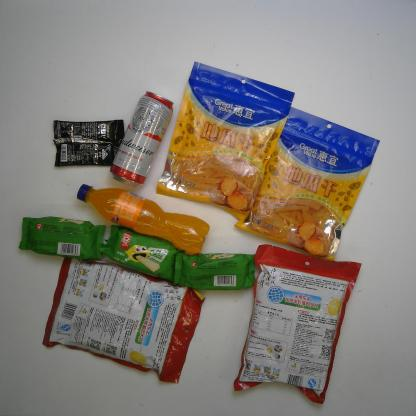Alcohol: (108, 88, 176, 188)
Dessert: (98, 222, 187, 284), (18, 216, 107, 262), (171, 249, 262, 292)
Dried Fruit: (232, 99, 380, 263), (153, 61, 295, 224)
Drink: (75, 181, 212, 262)
Instant Drink: (42, 254, 206, 384), (232, 243, 362, 405), (49, 117, 130, 167)
